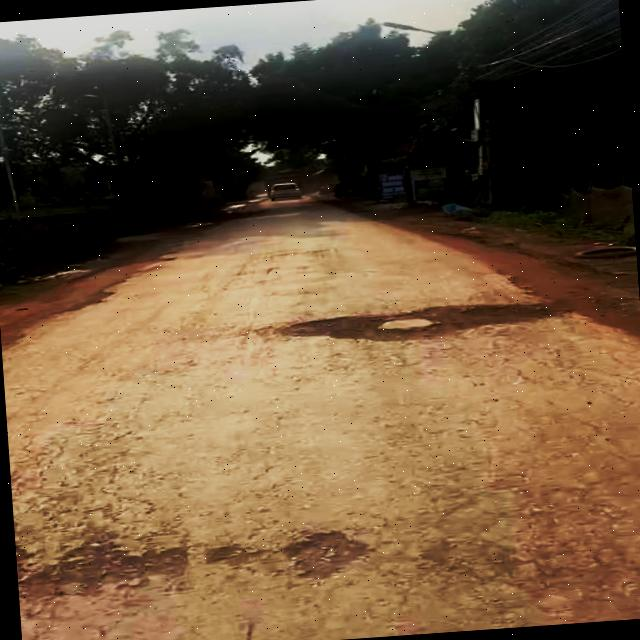pothole: (15, 526, 227, 610), (276, 296, 570, 354)
